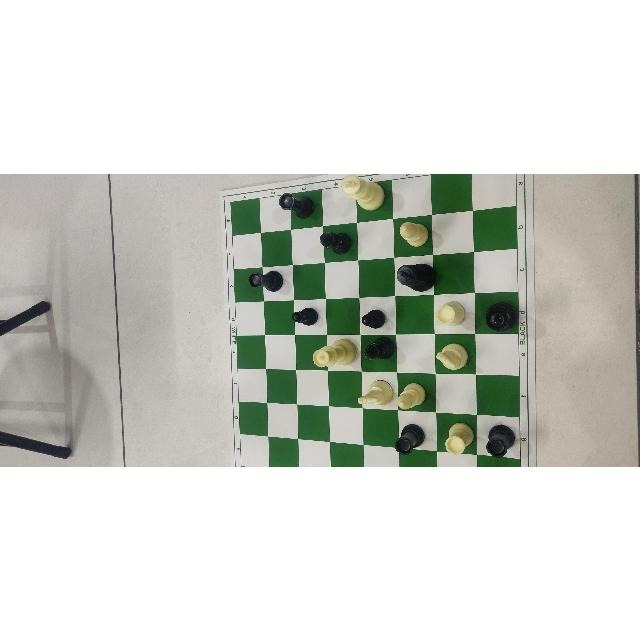black-bishop: (319, 230, 352, 254), (364, 336, 395, 360)
black-king: (397, 261, 437, 291)
black-pawn: (290, 306, 319, 326), (361, 308, 386, 328)
black-queen: (485, 300, 517, 332)
black-rook: (286, 190, 321, 223), (486, 423, 516, 457), (393, 423, 424, 455), (248, 270, 284, 292)
white-bishop: (397, 219, 428, 248), (396, 382, 425, 410)
white-king: (340, 174, 384, 209)
white-knight: (358, 378, 394, 410), (436, 342, 472, 370)
white-queen: (312, 338, 357, 368)
white-rook: (445, 421, 476, 455), (434, 298, 468, 325)
